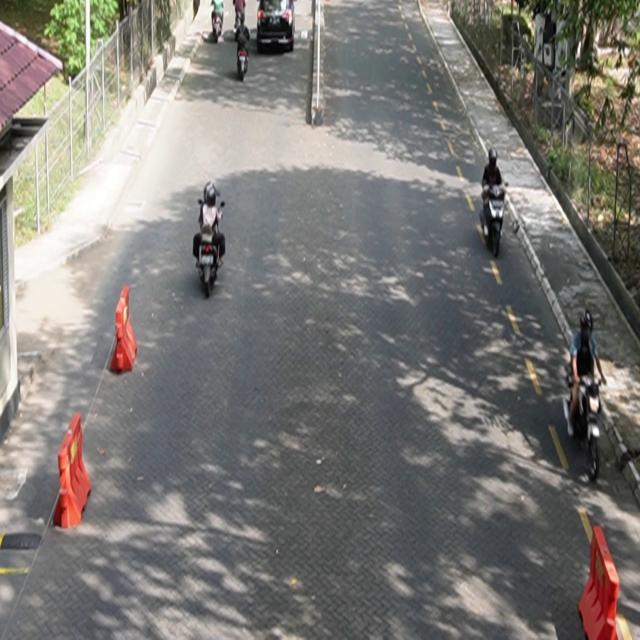car: (257, 1, 296, 54)
